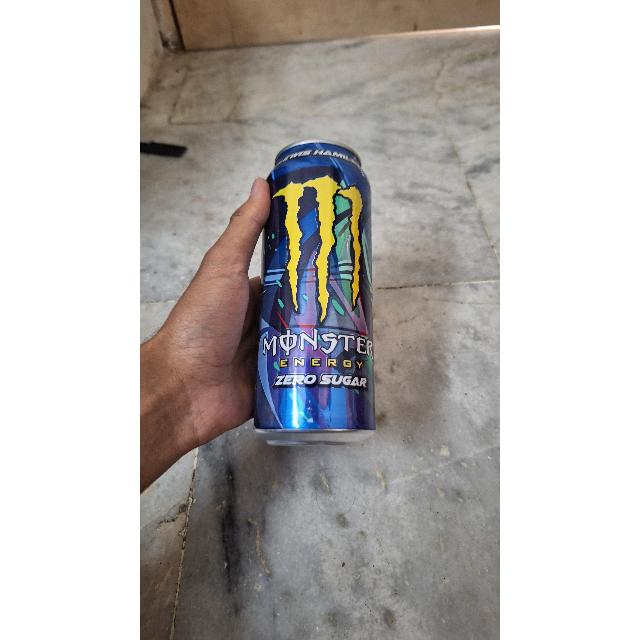Monster LH44: (253, 141, 381, 441)
